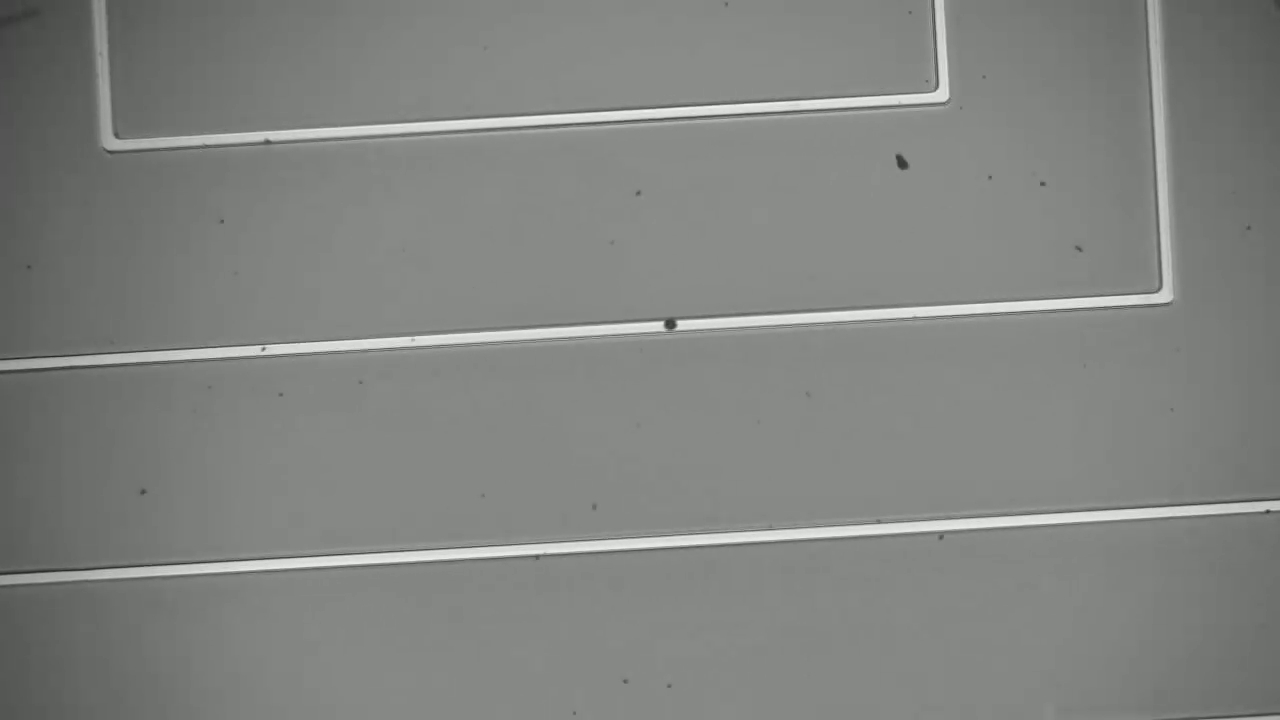stains_enbedded: (657, 308, 684, 339)
